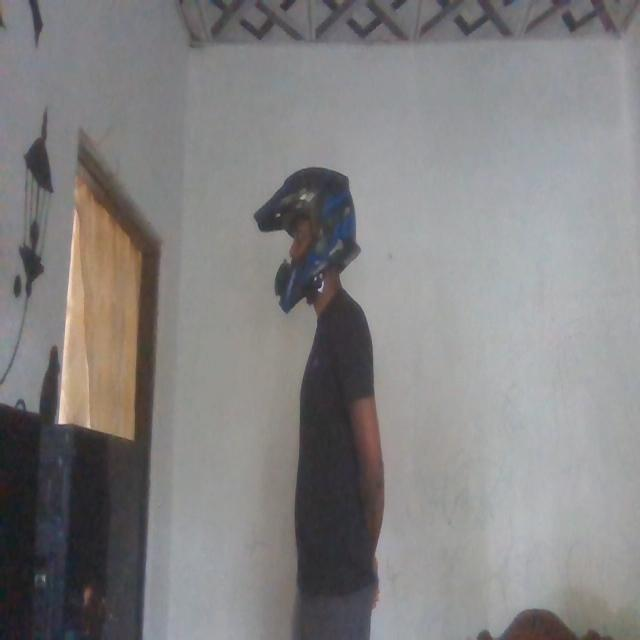Helmet_Wearer: (253, 166, 357, 310)
Person: (251, 168, 385, 640)
